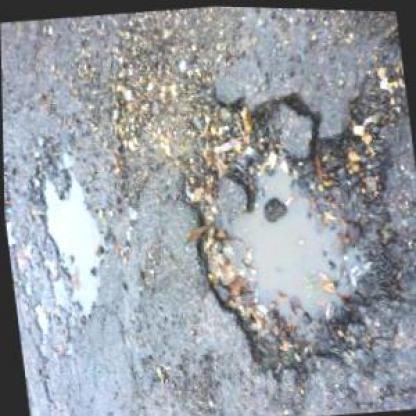pothole: (174, 60, 414, 395), (24, 130, 111, 329)
